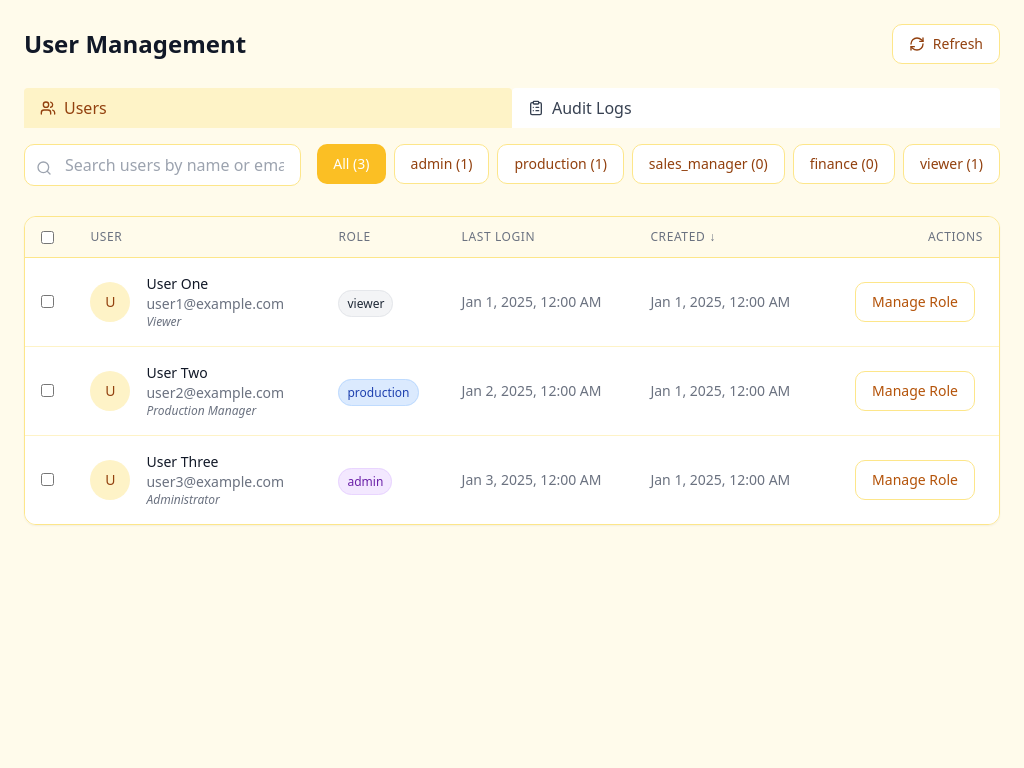
Scenario: UserManagement › handles select all functionality
Expected: the text "User One" is shown, x1=146 y1=274 x2=208 y2=293
Note: Click select all checkbox
Click the checkbox in the row of "Last Login". click: (48, 237)
box: x1=41 y1=230 x2=54 y2=244
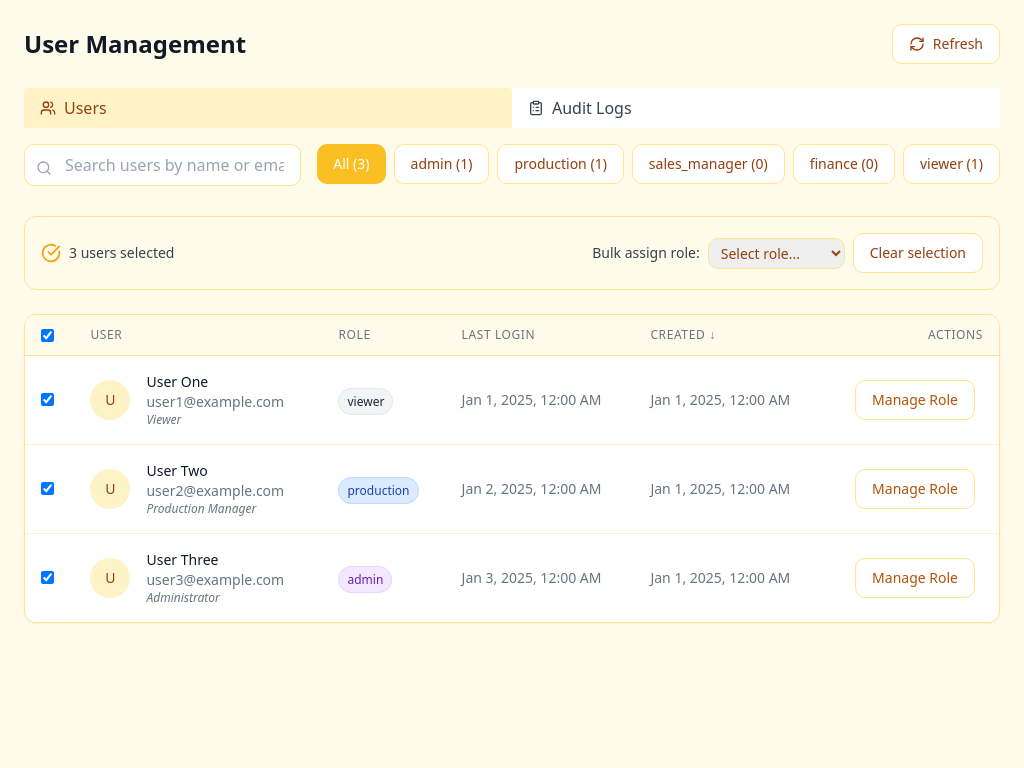
Expected: the text "3 users selected" is shown, x1=69 y1=243 x2=174 y2=263
Note: Click select all checkbox again to deselect
Click the checkbox in the row of "Last Login". click: (48, 335)
box: x1=41 y1=328 x2=54 y2=342
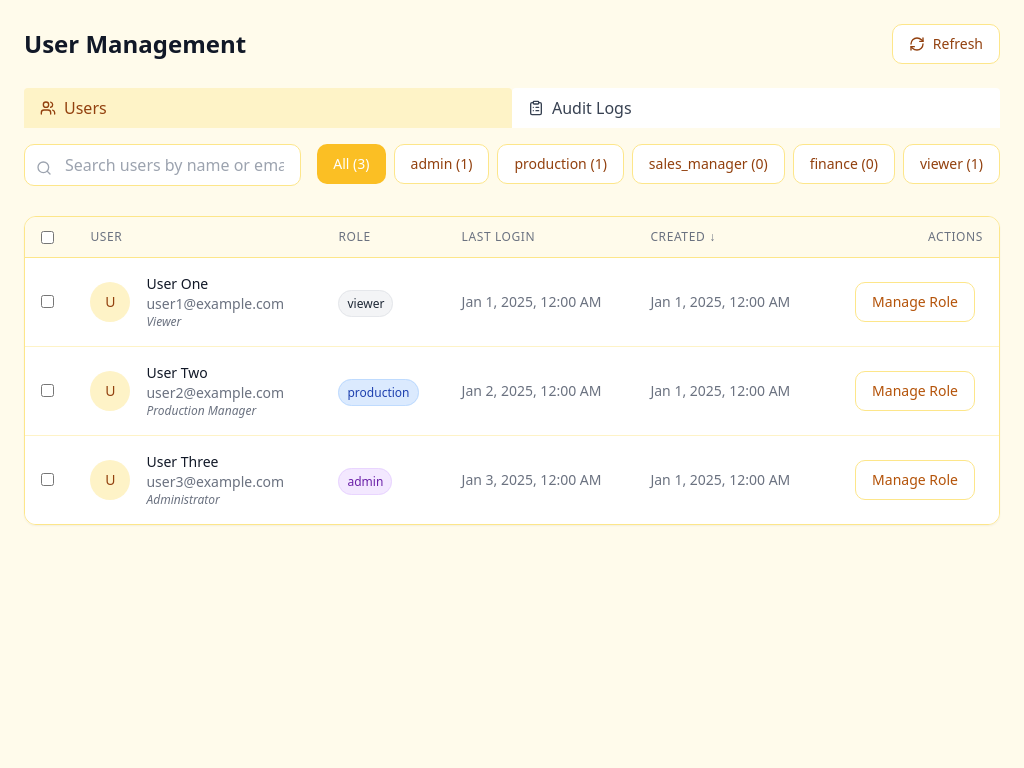
Expected: the text "users selected" is gone
